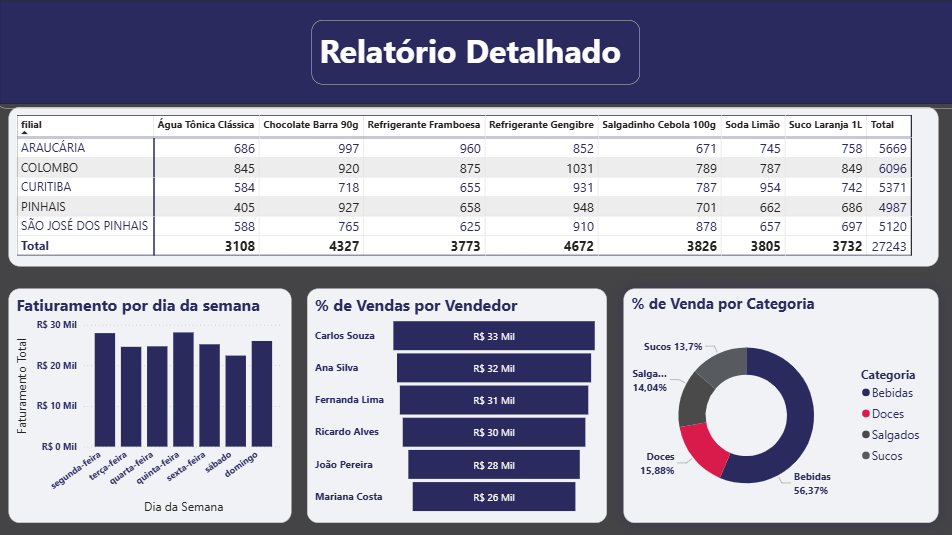

This screenshot's page, from the dashboard's own definition file:
{"tool":"powerbi","page":{"name":"Relatório Detalhado","canvas":[1280,720],"ordinal":1},"visuals":[{"type":"donutChart","title":"% de Venda por Categoria","fields":{"Y":["_medidas.Quantidade Vendida"],"Category":["Dim_produto.categoria"]},"box":[837.5,390,420,312.5],"z":0},{"type":"funnel","title":"%  de Vendas por Vendedor","fields":{"Category":["Dim_vendedores.vendedor"],"Y":["_medidas.Faturamento Total"]},"box":[415.9,390,400,312.4],"z":1000},{"type":"pivotTable","fields":{"Rows":["Dim_filiais.filial"],"Columns":["Dim_produto.nome_produto"],"Values":["_medidas.Quantidade Vendida"]},"box":[17.5,147.5,1240,212.5],"z":2000},{"type":"clusteredColumnChart","title":"Fatiuramento por dia da semana","fields":{"Category":["Dim_Data.Dia da Semana"],"Y":["_medidas.Faturamento Total"]},"box":[17.5,390,377.5,312.5],"z":3000},{"type":"group","id":"g1","title":"Grupo 1","box":[0,0,1600,150],"z":4000},{"type":"shape","box":[0,0,1600,150],"z":6000,"group":"g1"},{"type":"textbox","box":[422,32,438,86],"z":7000,"group":"g1"}]}

Visuals, with their boxes in screenshot pixels (x1, y1, x2, y2), scaled from the page's 1280x720 canvas onto the 952x535 screenshot:
"% de Venda por Categoria" donutChart: rect(623, 290, 935, 522)
"%  de Vendas por Vendedor" funnel: rect(309, 290, 607, 522)
pivotTable - Dim_filiais.filial x Dim_produto.nome_produto: rect(13, 110, 935, 268)
"Fatiuramento por dia da semana" clusteredColumnChart: rect(13, 290, 294, 522)
"Grupo 1" group: rect(0, 0, 951, 111)
shape: rect(0, 0, 951, 111)
textbox: rect(314, 24, 640, 88)
